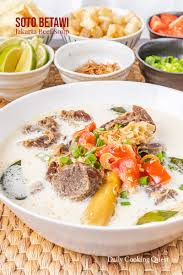soto: (5, 88, 183, 242)
